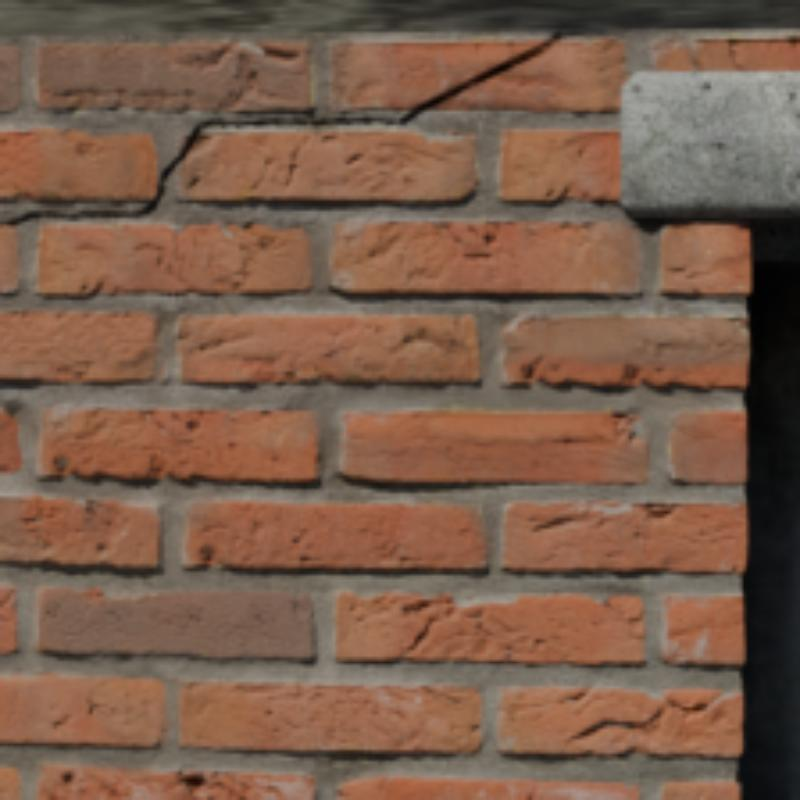pothole: (0, 32, 564, 221)
